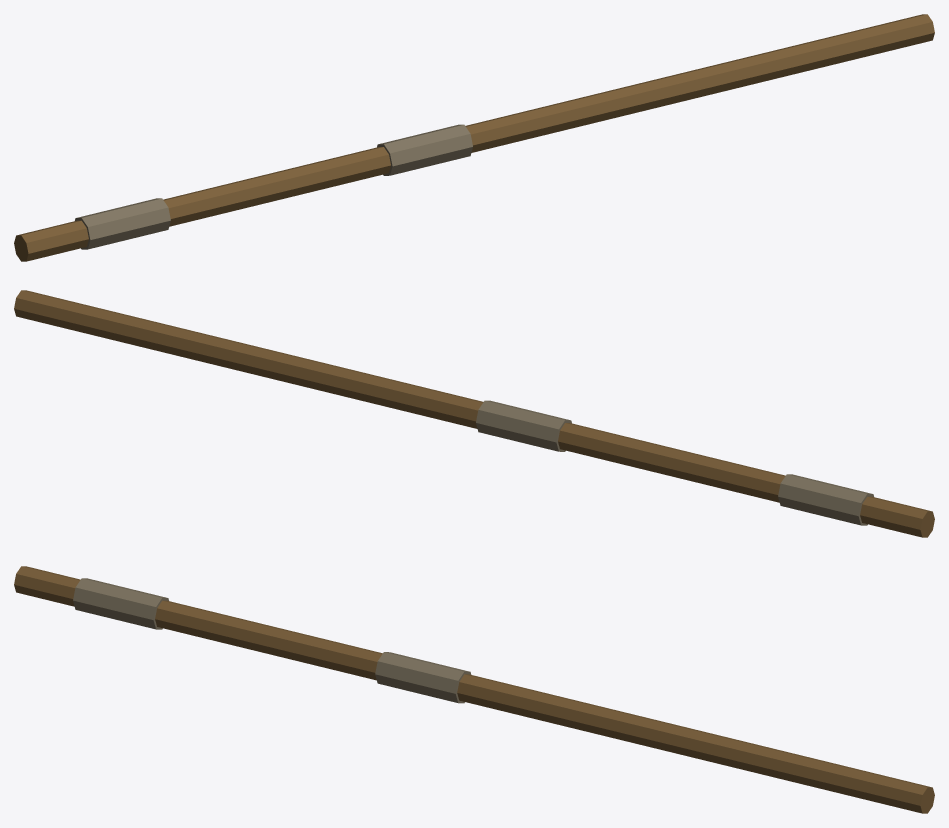
The model's file is long pole.glb.
3 views of the same model, one above another, from view 1: azimuth 30°, elevation 25°; view 2: azimuth 150°, elevation 25°; view 3: azimuth 330°, elevation 25° (orthographic).
Visible parts, largest first — view 1: long pole; view 2: long pole; view 3: long pole.
Part boxes in pixels (x1,y1,x2,y2): long pole: (14,14,934,261); long pole: (14,290,934,537); long pole: (14,566,934,813).
Size of the model in its own units: 1.8 by 0.06 by 0.06.
